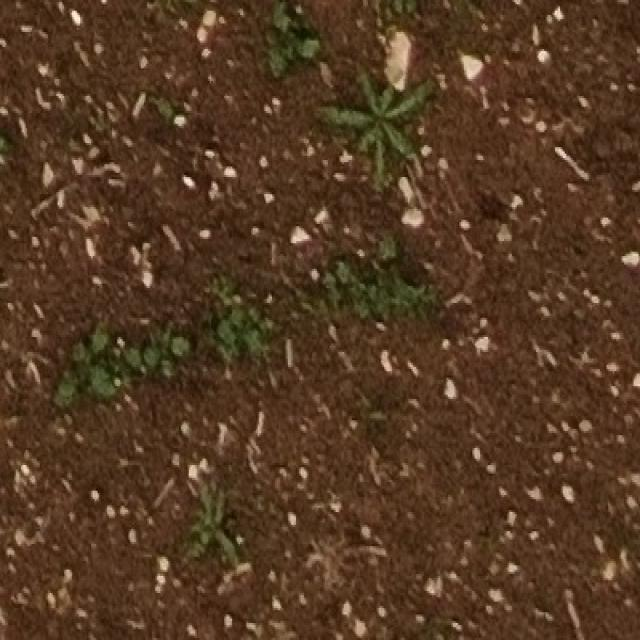cirse: (305, 45, 432, 193), (315, 56, 449, 193), (304, 53, 429, 189), (182, 457, 252, 557), (186, 468, 253, 561), (191, 454, 256, 545)
